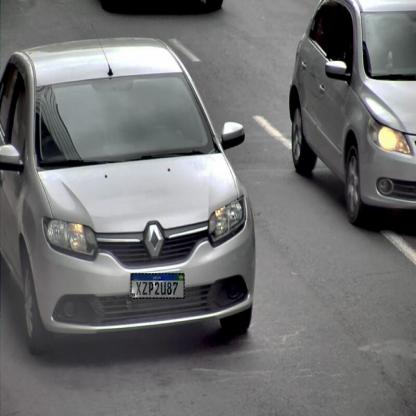PlacaM: (130, 273, 184, 299)
